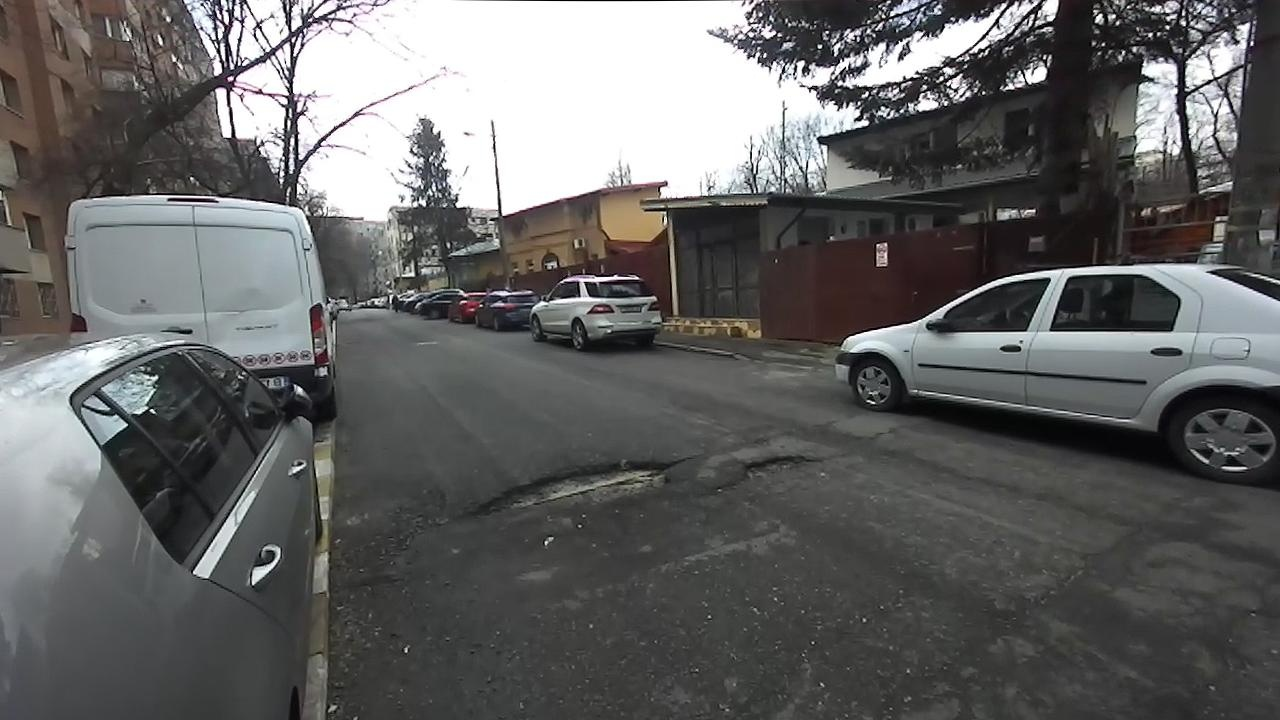pothole: (444, 448, 698, 531), (712, 451, 829, 493)
